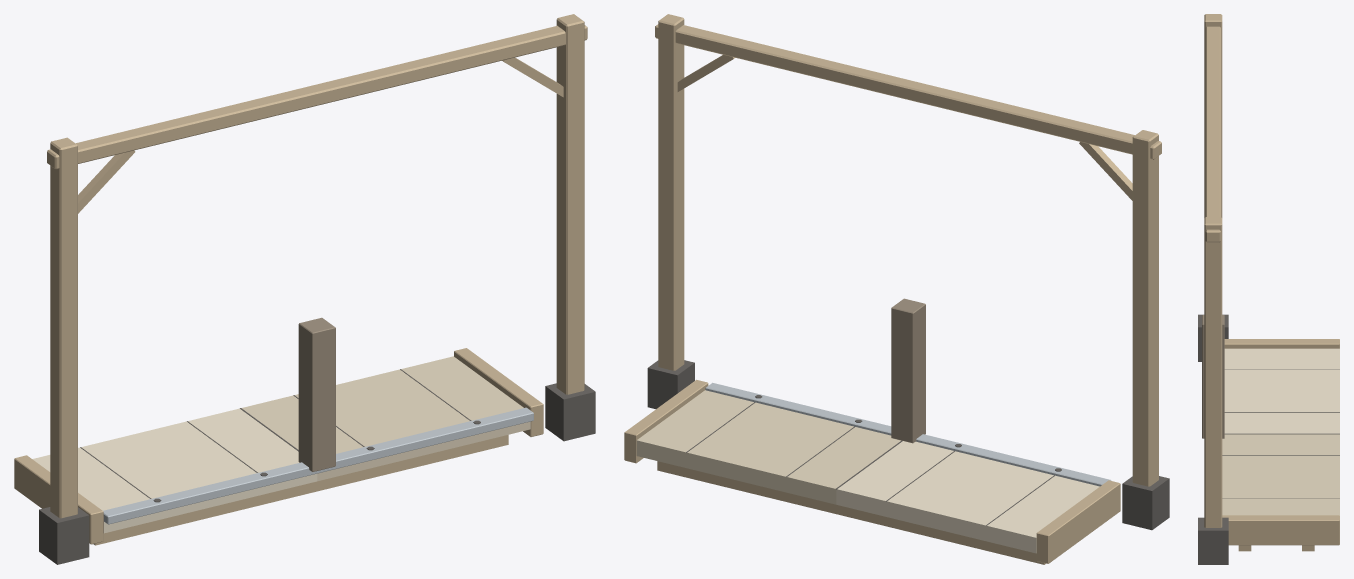
Rendered from gap_ramp.glb.
3 views of the same model, side by side, from view 1: azimuth 30°, elevation 25°; view 2: azimuth 150°, elevation 25°; view 3: azimuth 270°, elevation 25° (orthographic). The views are drawn at different scales.
Visible parts, largest first — view 1: gr_gate_mesh, gr_seg_mesh, gr_lip_mesh, gr_pile_mesh; view 2: gr_seg_mesh, gr_gate_mesh, gr_pile_mesh, gr_lip_mesh; view 3: gr_seg_mesh, gr_gate_mesh, gr_pile_mesh.
Part boxes in pixels (x1,y1,x2,y2): gr_gate_mesh: (39,14,595,564); gr_seg_mesh: (14,348,543,545); gr_lip_mesh: (103,407,533,524); gr_pile_mesh: (298,317,335,471); gr_seg_mesh: (624,379,1120,564); gr_gate_mesh: (647,14,1169,530); gr_pile_mesh: (891,298,925,443); gr_lip_mesh: (705,382,1111,486); gr_seg_mesh: (1222,339,1339,551); gr_gate_mesh: (1198,14,1228,564); gr_pile_mesh: (1202,315,1224,438).
Size of the model in its own units: 4.04 by 3.05 by 1.12.
